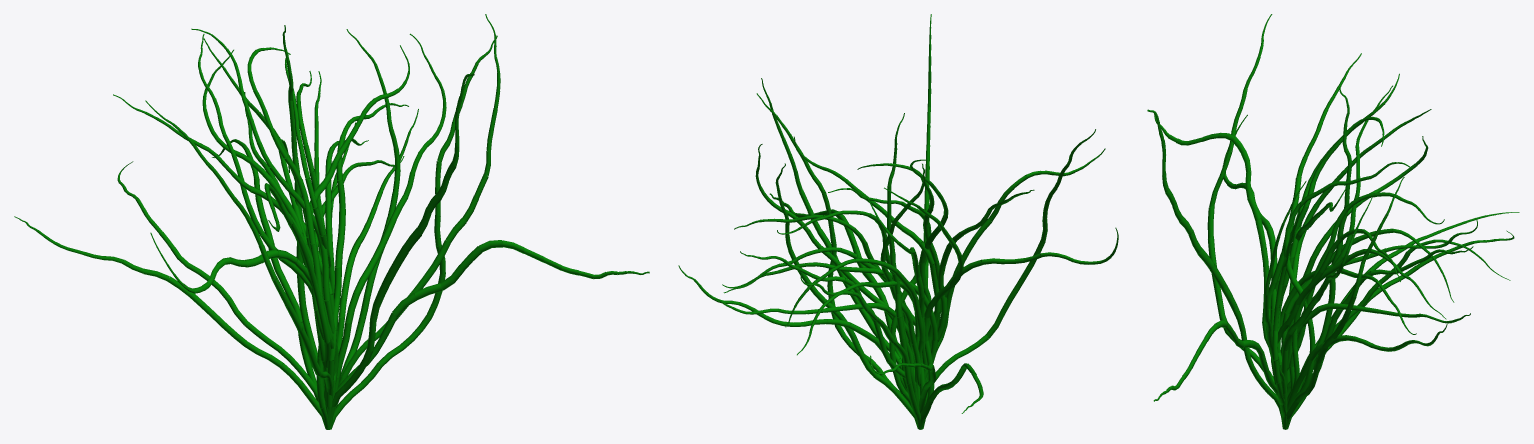
File: Aqua7.FBX
The picture shows the model from 3 angles, left to right: view 1: azimuth 30°, elevation 25°; view 2: azimuth 150°, elevation 25°; view 3: azimuth 270°, elevation 25°; orthographic projection. The views are drawn at different scales.
Parts seen in each view (by area): view 1: aq13.obj_7; view 2: aq13.obj_7; view 3: aq13.obj_7.
Boxes of the visible parts, bbox=[...] form: aq13.obj_7: bbox=[14, 14, 649, 429]; aq13.obj_7: bbox=[678, 14, 1118, 429]; aq13.obj_7: bbox=[1147, 14, 1519, 429].
Size of the model in its own units: 72 by 61.24 by 59.45.
